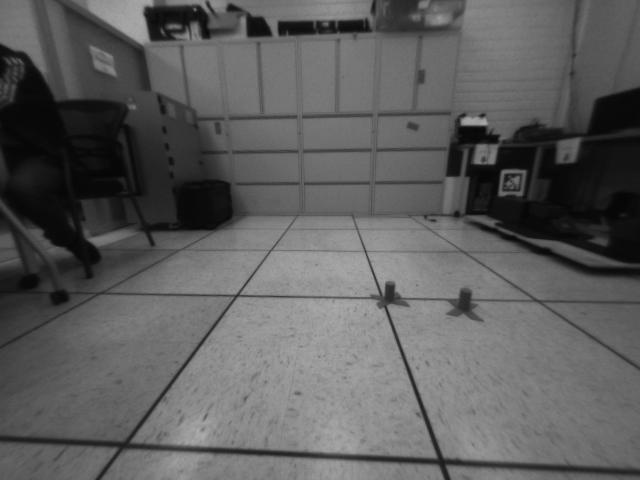X: (444, 285, 482, 322), (368, 278, 409, 310)
